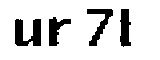7: (84, 5, 115, 49)
l: (117, 6, 138, 52)
r: (49, 14, 74, 49)
u: (12, 17, 44, 49)
